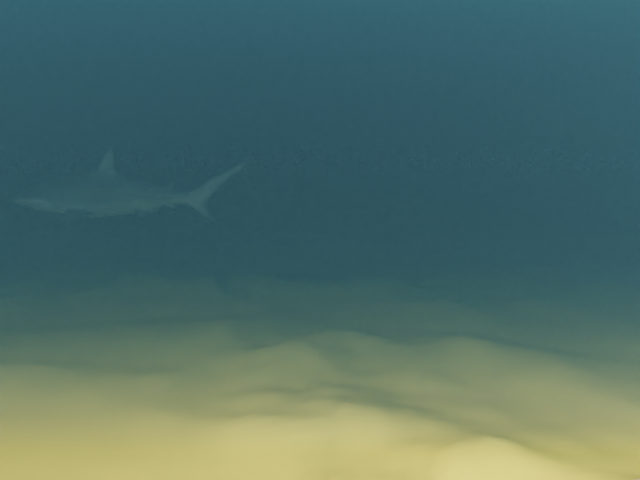Carribean Shark.001: (11, 145, 255, 230)
